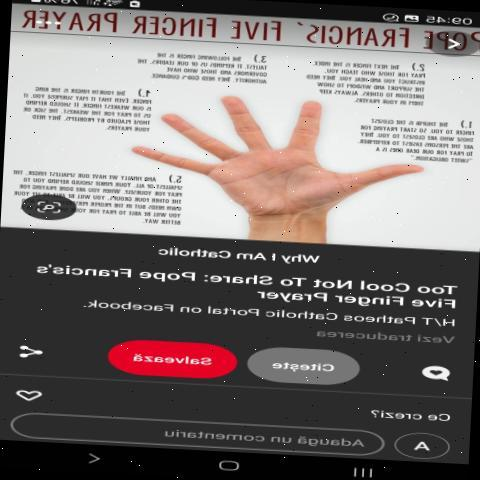Hands: (113, 77, 436, 241)
